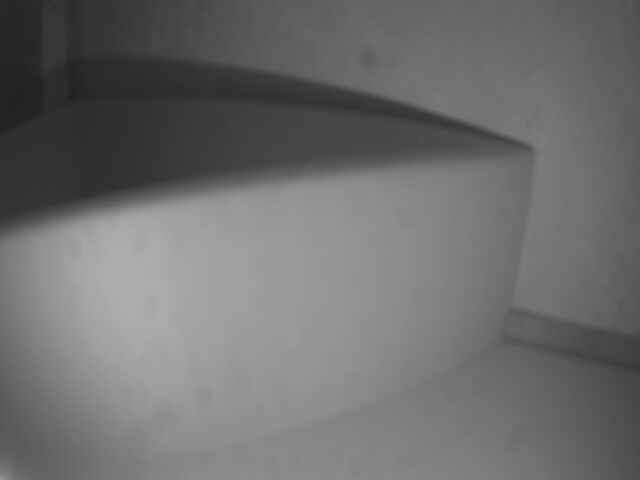Red: (3, 145, 536, 476)
